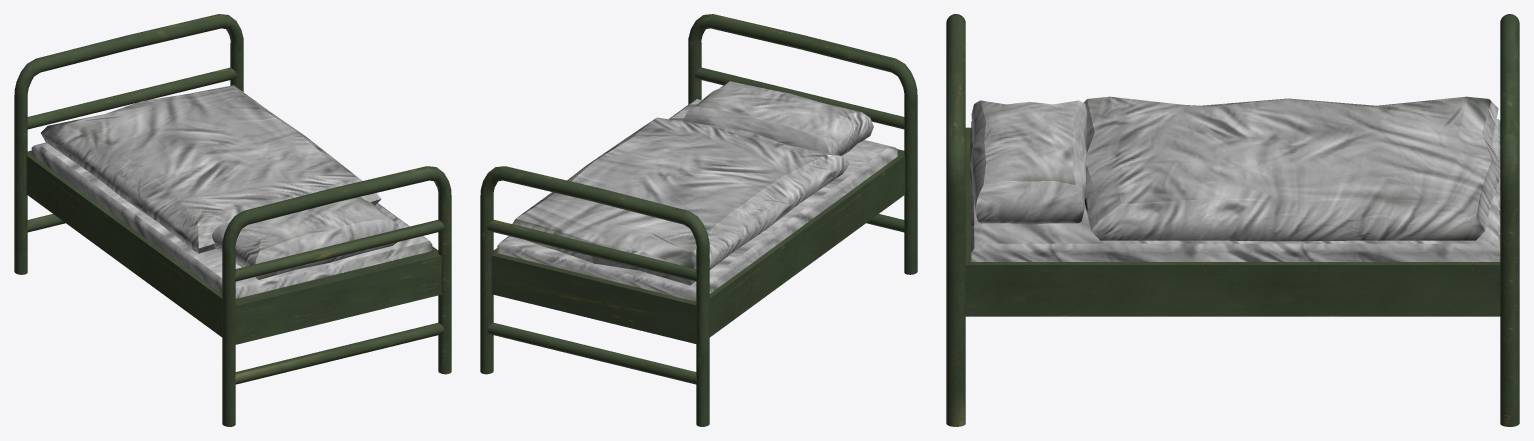
3 views of the same model, side by side, from view 1: azimuth 30°, elevation 25°; view 2: azimuth 150°, elevation 25°; view 3: azimuth 270°, elevation 25° (orthographic). The views are drawn at different scales.
Visible parts, largest first — view 1: Cube.001; view 2: Cube.001; view 3: Cube.001.
Part boxes in pixels (x1,y1,x2,y2): Cube.001: [14, 14, 451, 426]; Cube.001: [480, 14, 917, 426]; Cube.001: [946, 14, 1519, 426].
Size of the model in its own units: 129 by 114 by 212.
1 material, 1 textured.
